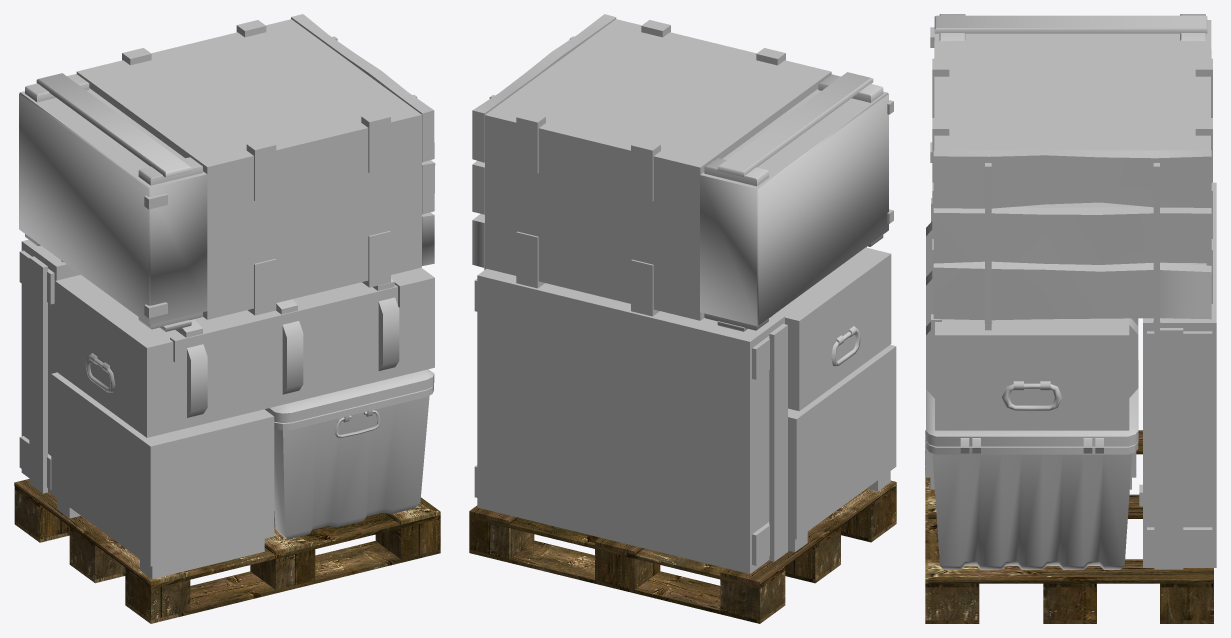
File: Supplies.FBX
3 renders of one model, left to right at view 1: azimuth 30°, elevation 25°; view 2: azimuth 150°, elevation 25°; view 3: azimuth 270°, elevation 25°, orthographic. The views are drawn at different scales.
Parts seen in each view (by area): view 1: studio.crateshell_ref.mesh_02; view 2: studio.crateshell_ref.mesh_02; view 3: studio.crateshell_ref.mesh_02.
Boxes of the visible parts, box(x1,y1,x2,y2) form: studio.crateshell_ref.mesh_02: box(14, 14, 440, 623); studio.crateshell_ref.mesh_02: box(469, 14, 896, 623); studio.crateshell_ref.mesh_02: box(925, 14, 1216, 623).
Size of the model in its own units: 29.42 by 42.21 by 23.64.
